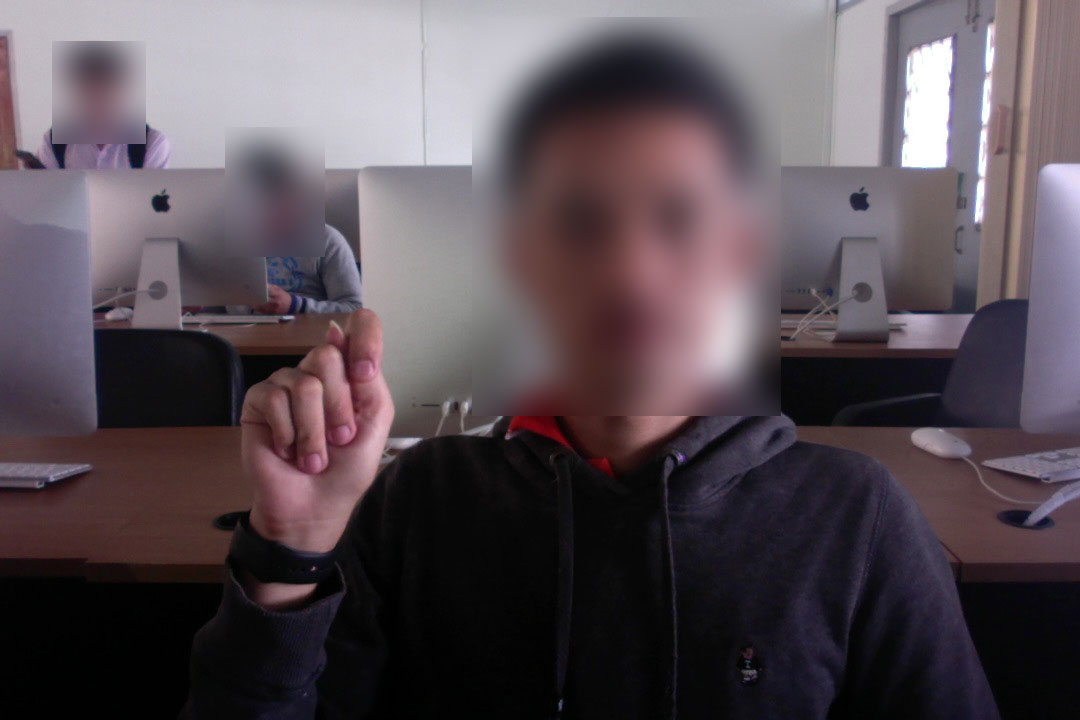tor: (234, 304, 399, 548)
